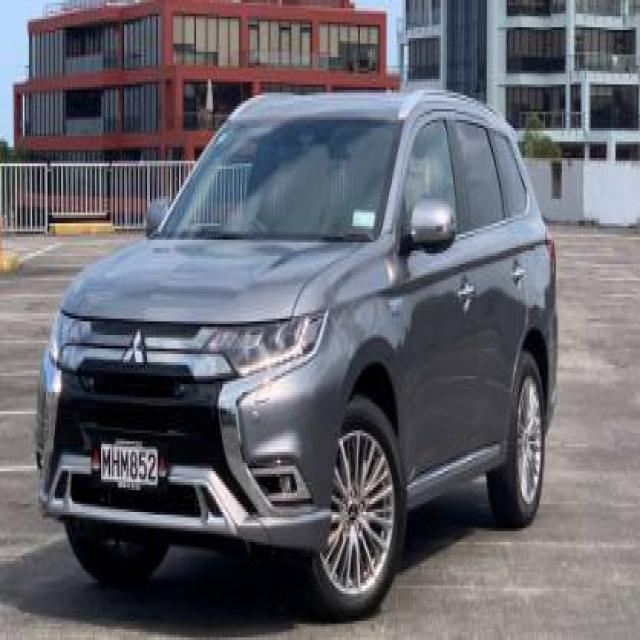light_vehicle: (34, 86, 560, 620)
